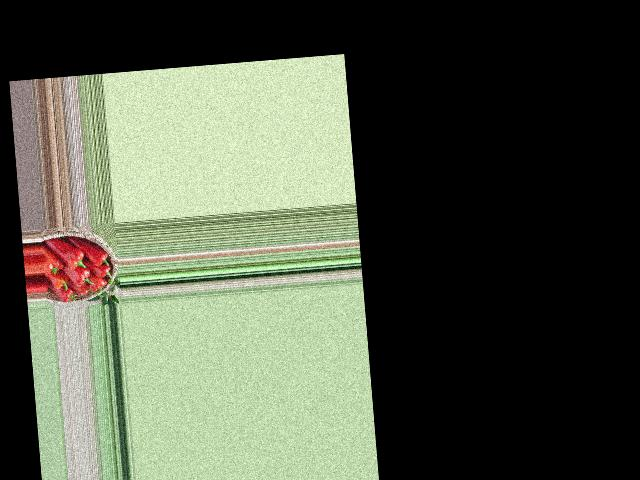bell_pepper: (92, 262, 114, 281)
